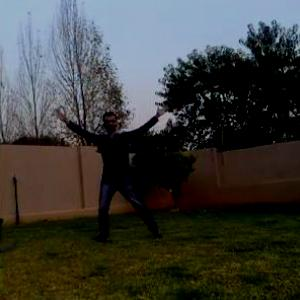takeoff: (67, 100, 180, 245)
